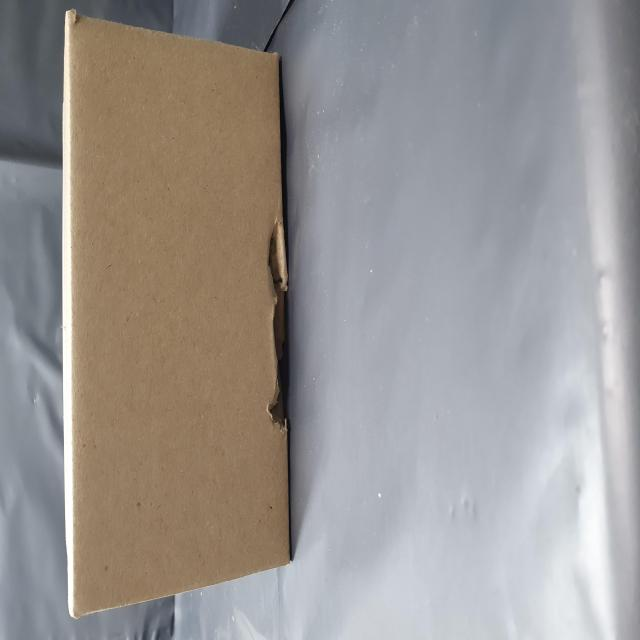damaged: (115, 460, 241, 513)
